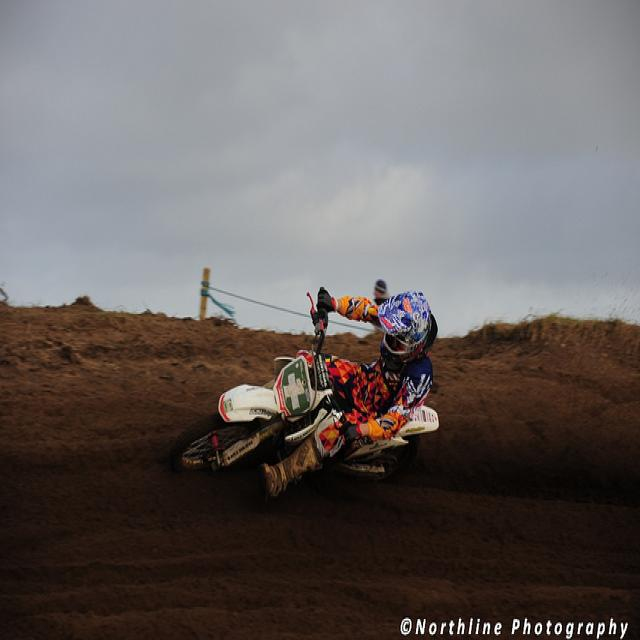motor: (167, 291, 441, 501)
